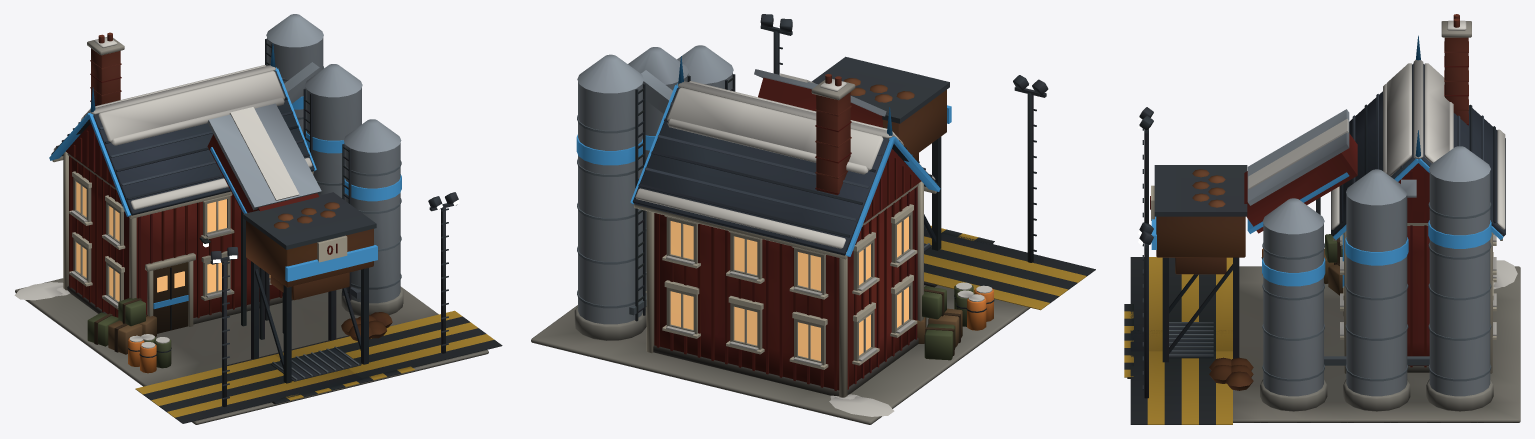
File: refinery.glb
3 renders of one model, left to right at view 1: azimuth 30°, elevation 25°; view 2: azimuth 150°, elevation 25°; view 3: azimuth 270°, elevation 25°, orthographic. The views are drawn at different scales.
Visible parts, largest first — view 1: refinery_root_matte, refinery_root_metal, refinery_root_trim, refinery_root_glass; view 2: refinery_root_matte, refinery_root_metal, refinery_root_glass, refinery_root_trim; view 3: refinery_root_matte, refinery_root_metal, refinery_root_trim.
Part boxes in pixels (x1,y1,x2,y2): refinery_root_matte: [14, 32, 502, 424]; refinery_root_metal: [199, 14, 458, 406]; refinery_root_trim: [49, 43, 401, 309]; refinery_root_glass: [76, 182, 270, 301]; refinery_root_matte: [531, 73, 1095, 424]; refinery_root_metal: [577, 14, 1048, 324]; refinery_root_glass: [670, 216, 908, 360]; refinery_root_trim: [576, 56, 951, 256]; refinery_root_matte: [1124, 14, 1520, 424]; refinery_root_metal: [1139, 107, 1491, 398]; refinery_root_trim: [1151, 35, 1503, 287].
Size of the model in its own units: 12.4 by 9.82 by 12.4.
